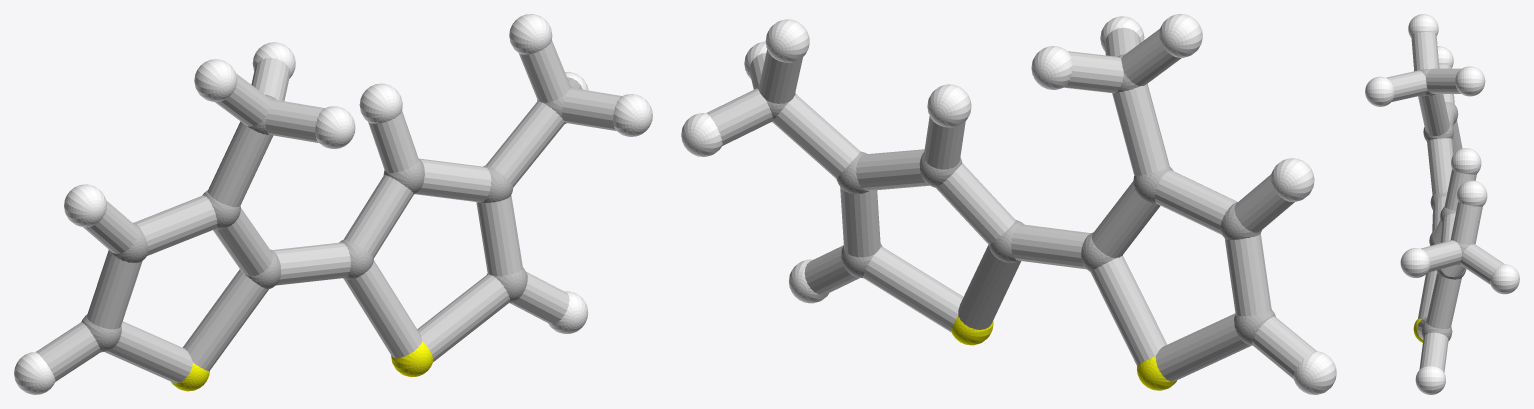
The model's file is color.glb.
3 renders of one model, left to right at view 1: azimuth 30°, elevation 25°; view 2: azimuth 150°, elevation 25°; view 3: azimuth 270°, elevation 25°, orthographic. The views are drawn at different scales.
Visible parts, largest first — view 1: grp7965, grp3621, grp1, grp7241; view 2: grp7965, grp3621, grp1, grp7241; view 3: grp7965, grp3621, grp1.
Part boxes in pixels (left/top/right/bottom): grp7965: left=36, top=40, right=621, bottom=383; grp3621: left=14, top=14, right=652, bottom=394; grp1: left=81, top=86, right=572, bottom=352; grp7241: left=171, top=341, right=433, bottom=391; grp7965: left=706, top=27, right=1316, bottom=381; grp3621: left=681, top=14, right=1336, bottom=394; grp1: left=756, top=54, right=1275, bottom=345; grp7241: left=951, top=316, right=1176, bottom=390; grp7965: left=1386, top=32, right=1503, bottom=372; grp3621: left=1365, top=14, right=1519, bottom=394; grp1: left=1419, top=69, right=1469, bottom=341.
Bounding box in the file's own units: 9.68 × 5.61 × 3.05.
